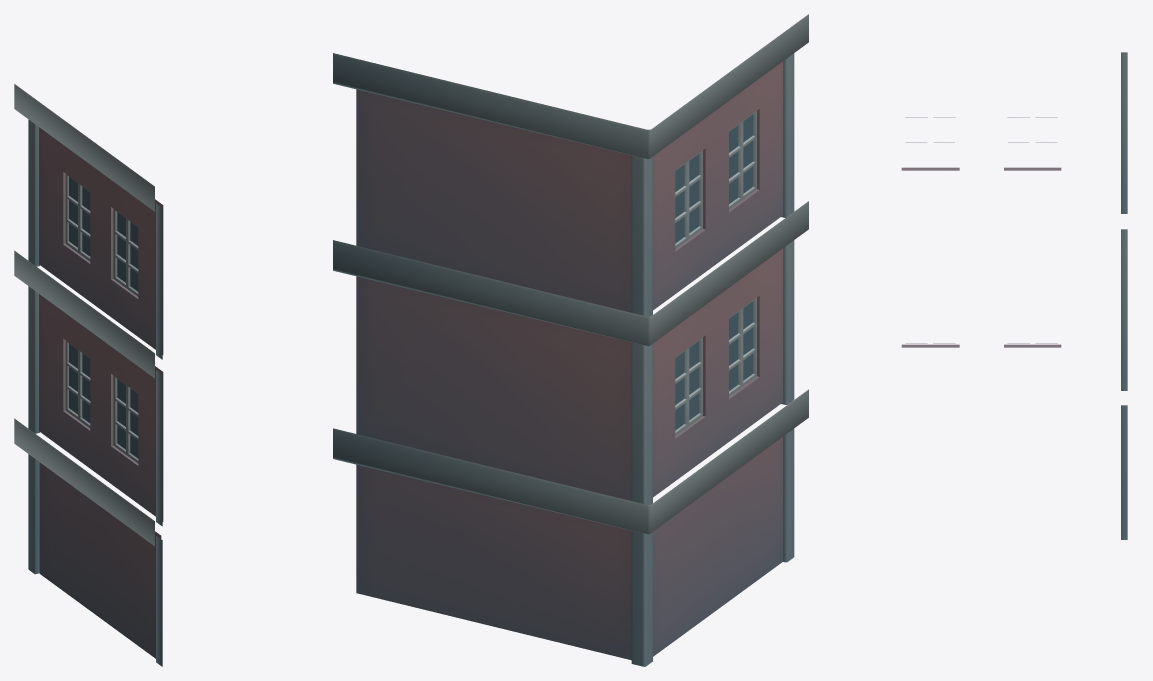
File: BackgroundBuilding01.glb
3 views of the same model, side by side, from view 1: azimuth 30°, elevation 25°; view 2: azimuth 150°, elevation 25°; view 3: azimuth 270°, elevation 25° (orthographic). The views are drawn at different scales.
Visible parts, largest first — view 1: BackgroundBuilding01; view 2: BackgroundBuilding01; view 3: BackgroundBuilding01.
Part boxes in pixels (left/top/right/bottom): BackgroundBuilding01: left=14, top=84, right=163, bottom=666; BackgroundBuilding01: left=333, top=14, right=808, bottom=666; BackgroundBuilding01: left=901, top=52, right=1127, bottom=539.
Bounding box in the file's own units: 10.6 × 17.38 × 9.21.
